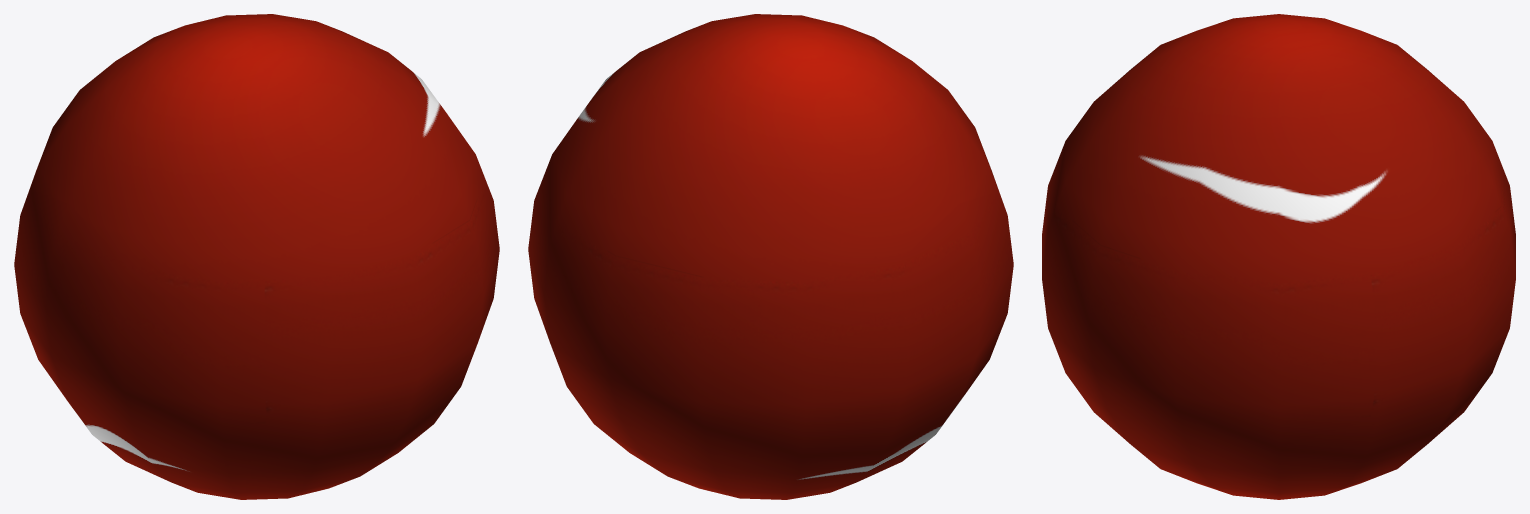
Rendered from Ball.fbx.
The picture shows the model from 3 angles, left to right: view 1: azimuth 30°, elevation 25°; view 2: azimuth 150°, elevation 25°; view 3: azimuth 270°, elevation 25°; orthographic projection.
Parts seen in each view (by area): view 1: Ball; view 2: Ball; view 3: Ball.
Part boxes in pixels (<box>): Ball: <box>14,14,499,499</box>; Ball: <box>528,14,1013,499</box>; Ball: <box>1042,14,1515,499</box>.
Size of the model in its own units: 17.52 by 17.52 by 17.08.
Materials: 1 (1 with a texture image).
